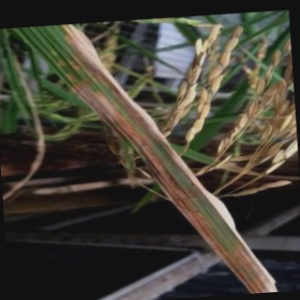Leaf_Blast: (208, 205, 257, 277)
